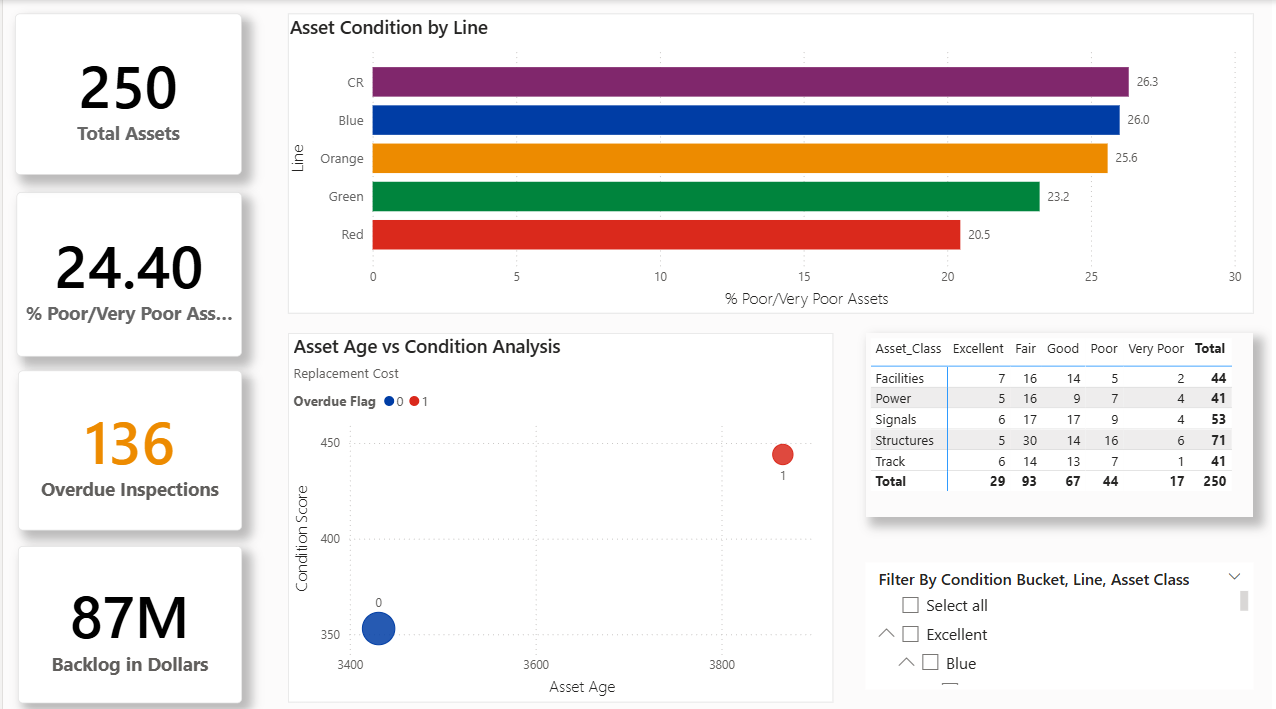

The dashboard page shown, as its layout file describes it:
{"tool":"powerbi","page":{"name":"MBTA Asset Risk & Readiness (Track + Power)","canvas":[1280,720],"ordinal":0},"visuals":[{"type":"card","fields":{"Values":["Assets.percentage Poor_Very Poor"]},"box":[14.3,194.3,227.1,165.7],"z":0},{"type":"card","fields":{"Values":["Assets.Overdue Inspections"]},"box":[15.7,374.3,225.7,161.4],"z":1000},{"type":"card","fields":{"Values":["Assets.Backlog_in_dollars"]},"box":[15.7,550,225.7,158.6],"z":2000},{"type":"card","fields":{"Values":["Assets.Total Assets"]},"box":[12.9,14.3,228.6,162.9],"z":3000},{"type":"clusteredBarChart","title":"Asset Condition by Line","fields":{"Category":["Assets.Line"],"Y":["Assets.percentage Poor_Very Poor"]},"box":[287.1,14.3,974.3,302.9],"z":4000},{"type":"pivotTable","fields":{"Rows":["Assets.Asset_Class"],"Columns":["Assets.Condition_Bucket"],"Values":["Assets.Total Assets"]},"box":[870.1,336.2,391.1,185.3],"z":5000},{"type":"scatterChart","title":"Asset Age vs Condition Analysis","fields":{"X":["Sum(Assets.Age_Years)"],"Y":["Sum(Assets.Condition_Score_1to5)"],"Series":["Assets.Overdue_Flag"],"Size":["Sum(Assets.Replacement_Cost_USD)"]},"box":[287.1,335.7,550,372.9],"z":6000},{"type":"slicer","fields":{"Values":["Assets.Condition_Bucket","Assets.Line","Assets.Asset_Class"]},"box":[870.1,566.8,391.1,127.6],"z":7000}]}

Visuals, with their boxes in screenshot pixels (x1, y1, x2, y2), scaled from the page's 1280x720 canvas onto the 1276x709 screenshot:
card - Assets.percentage Poor_Very Poor: x1=14, y1=191, x2=241, y2=354
card - Assets.Overdue Inspections: x1=16, y1=369, x2=241, y2=528
card - Assets.Backlog_in_dollars: x1=16, y1=542, x2=241, y2=698
card - Assets.Total Assets: x1=13, y1=14, x2=241, y2=174
"Asset Condition by Line" clusteredBarChart: x1=286, y1=14, x2=1257, y2=312
pivotTable - Assets.Asset_Class x Assets.Condition_Bucket: x1=867, y1=331, x2=1257, y2=514
"Asset Age vs Condition Analysis" scatterChart: x1=286, y1=331, x2=834, y2=698
slicer - Assets.Condition_Bucket x Assets.Line: x1=867, y1=558, x2=1257, y2=684
